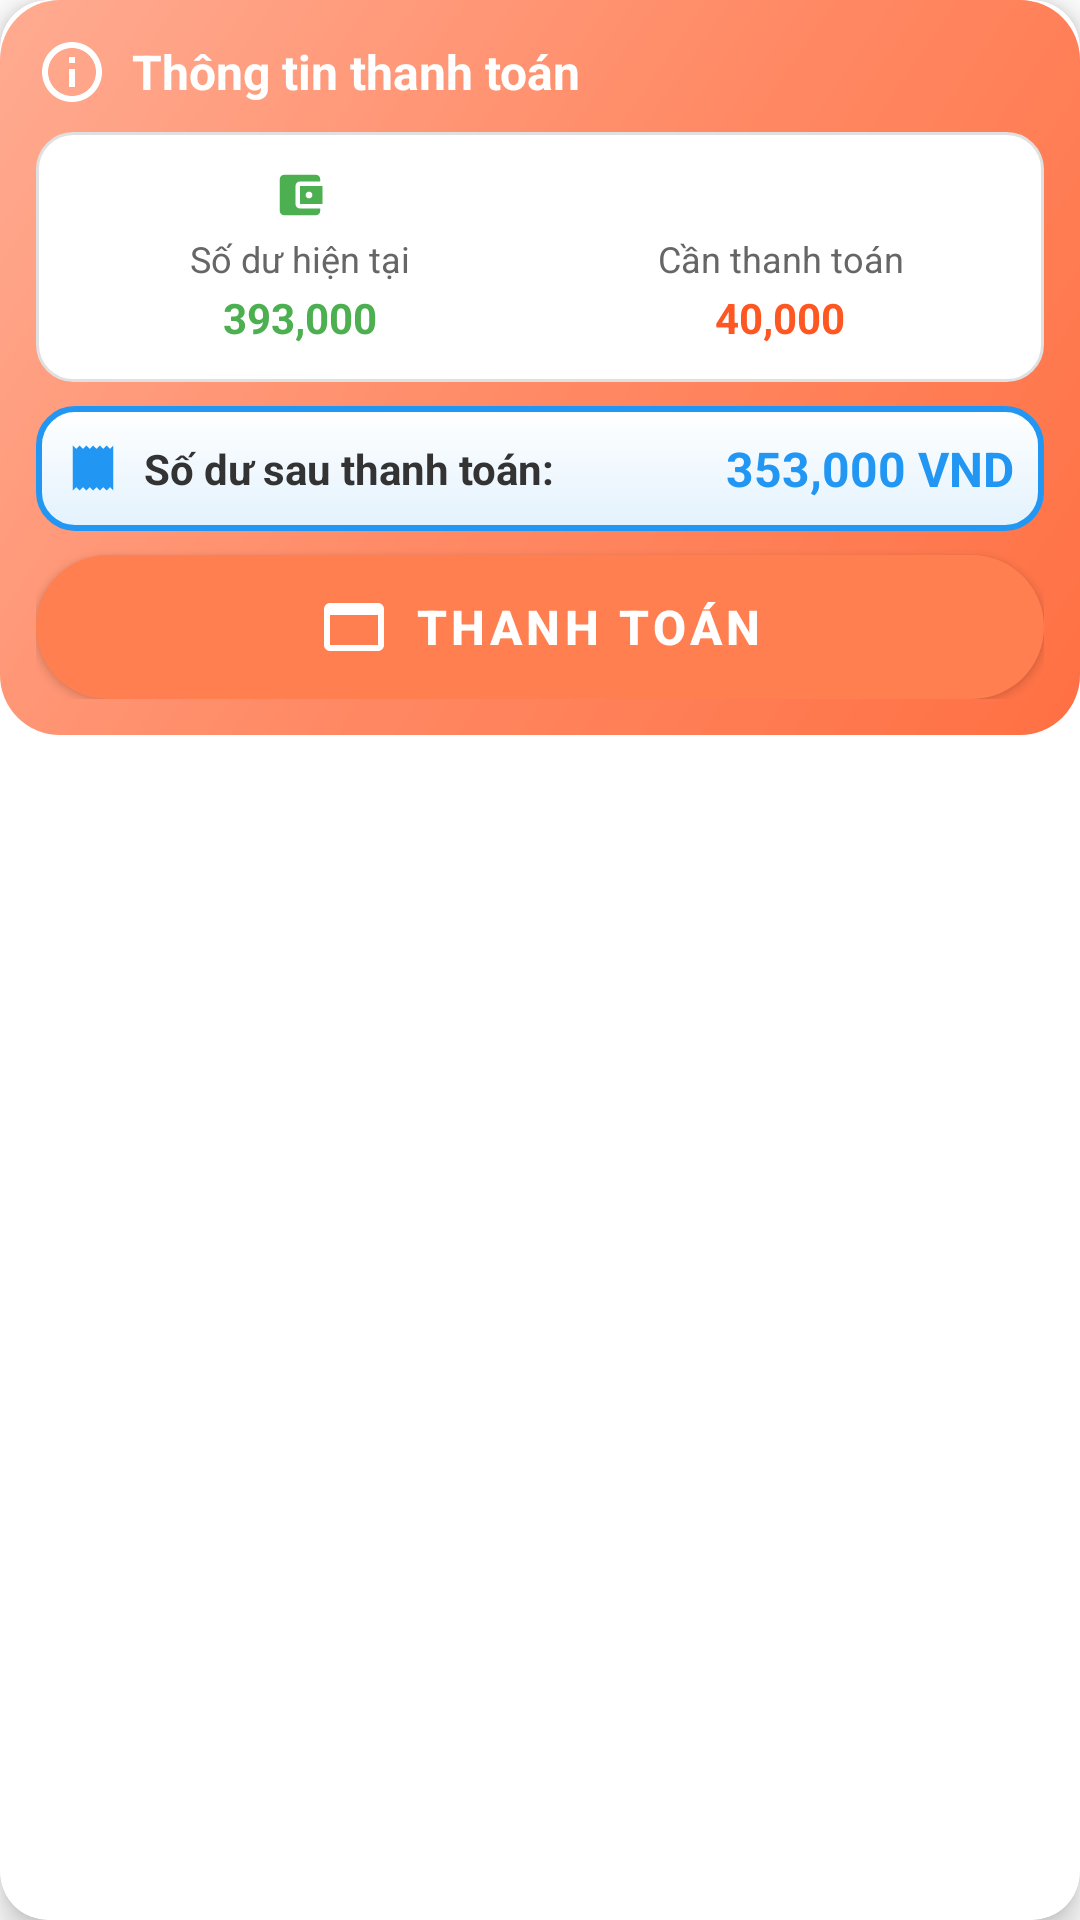

Icons on this 1080px x 1920px Android screen, each with its box as (x1, y1, x2, y2):
payment info: (42, 42, 102, 102)
wallet: (279, 174, 323, 216)
